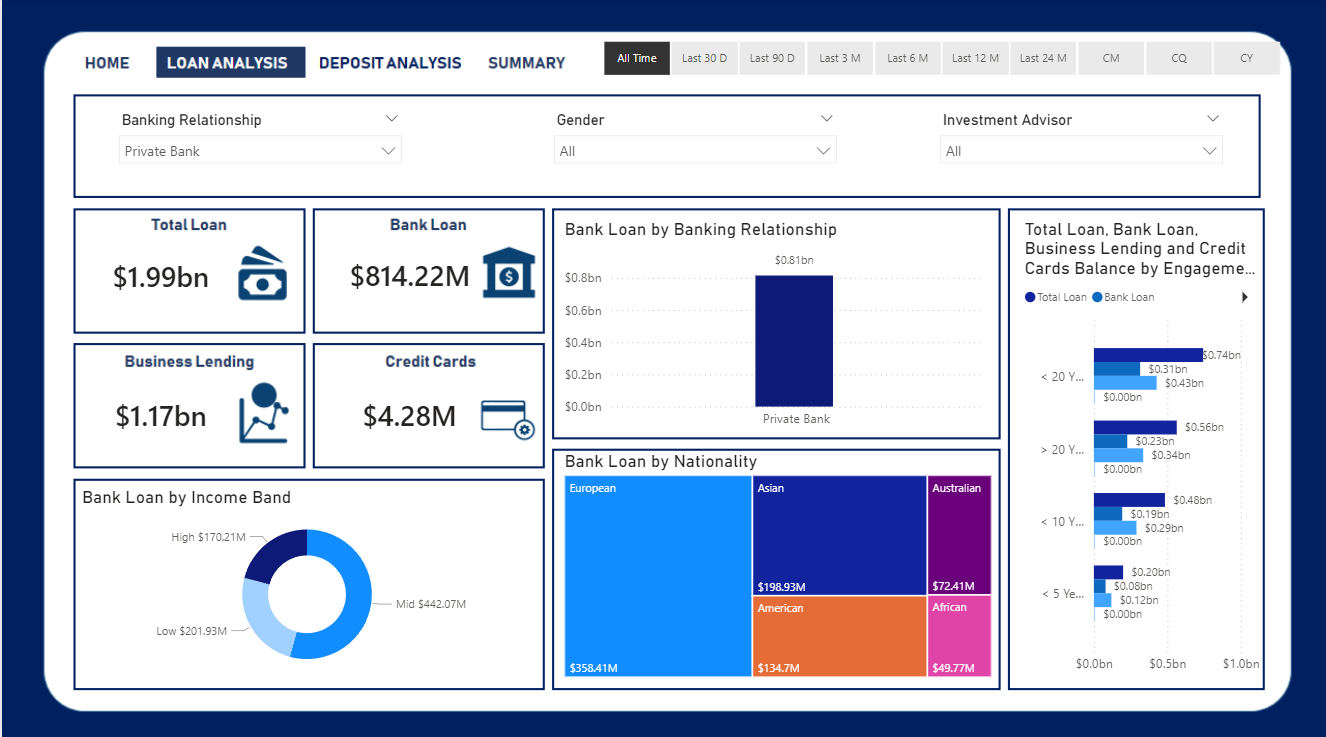

The dashboard page shown, as its layout file describes it:
{"tool":"powerbi","page":{"name":"Loan Analysis","canvas":[1280,720],"ordinal":1},"visuals":[{"type":"card","fields":{"Values":["DAX Measures.Total Loan"]},"box":[72.7,224,161.8,90.3],"z":0},{"type":"card","fields":{"Values":["DAX Measures.Bank Loan"]},"box":[307.2,224,172.4,89.1],"z":1000},{"type":"card","fields":{"Values":["DAX Measures.Credit Cards"]},"box":[307.2,360,171.2,89.1],"z":2000},{"type":"card","fields":{"Values":["DAX Measures.Business Lending"]},"box":[72.7,360,161.8,89.1],"z":3000},{"type":"slicer","fields":{"Values":["Banking Relationship.Banking Relationship"]},"box":[102.3,103.4,292.9,75.7],"z":4000},{"type":"slicer","fields":{"Values":["Gender.Gender"]},"box":[522.7,103.4,292.9,75.7],"z":5000},{"type":"slicer","fields":{"Values":["Investment Advisor.Investment Advisor"]},"box":[895,103.4,292.9,75.7],"z":6000},{"type":"donutChart","fields":{"Category":["Clients - Banking.Income Band"],"Y":["DAX Measures.Bank Loan"]},"box":[72.7,471.4,444.4,188.8],"z":7000},{"type":"clusteredBarChart","fields":{"Category":["Clients - Banking.Engagement Timeframe"],"Y":["DAX Measures.Total Loan","DAX Measures.Bank Loan","DAX Measures.Business Lending","DAX Measures.Credit Cards"]},"box":[981.5,212.2,236.9,447.9],"z":8000},{"type":"treemap","fields":{"Group":["Clients - Banking.Nationality"],"Values":["DAX Measures.Bank Loan"]},"box":[538.2,436.2,422.1,224],"z":9000},{"type":"lineClusteredColumnComboChart","fields":{"Y":["DAX Measures.Bank Loan"],"Category":["Banking Relationship.Banking Relationship"]},"box":[538.2,212.2,411.6,212.2],"z":10000},{"type":"slicer","fields":{"Values":["Period.Name"]},"box":[555.2,34.6,702.1,46.6],"z":11000},{"type":"actionButton","box":[72.8,44.2,58.5,31],"z":12000},{"type":"actionButton","box":[306.9,44.7,119.4,31],"z":13000},{"type":"actionButton","box":[471.6,44.2,83.6,31],"z":14000}]}

Visuals, with their boxes in screenshot pixels (x1, y1, x2, y2), scaled from the page's 1280x720 canvas onto the 1326x737 screenshot:
card - DAX Measures.Total Loan: bbox=(75, 229, 243, 322)
card - DAX Measures.Bank Loan: bbox=(318, 229, 497, 320)
card - DAX Measures.Credit Cards: bbox=(318, 368, 496, 460)
card - DAX Measures.Business Lending: bbox=(75, 368, 243, 460)
slicer - Banking Relationship.Banking Relationship: bbox=(106, 106, 409, 183)
slicer - Gender.Gender: bbox=(541, 106, 845, 183)
slicer - Investment Advisor.Investment Advisor: bbox=(927, 106, 1231, 183)
donutChart - Clients - Banking.Income Band x DAX Measures.Bank Loan: bbox=(75, 483, 536, 676)
clusteredBarChart - Clients - Banking.Engagement Timeframe x DAX Measures.Total Loan: bbox=(1017, 217, 1262, 676)
treemap - Clients - Banking.Nationality x DAX Measures.Bank Loan: bbox=(558, 446, 995, 676)
lineClusteredColumnComboChart - DAX Measures.Bank Loan x Banking Relationship.Banking Relationship: bbox=(558, 217, 984, 434)
slicer - Period.Name: bbox=(575, 35, 1302, 83)
actionButton: bbox=(75, 45, 136, 77)
actionButton: bbox=(318, 46, 442, 77)
actionButton: bbox=(489, 45, 575, 77)
